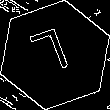L_S: (31, 26, 79, 84)
